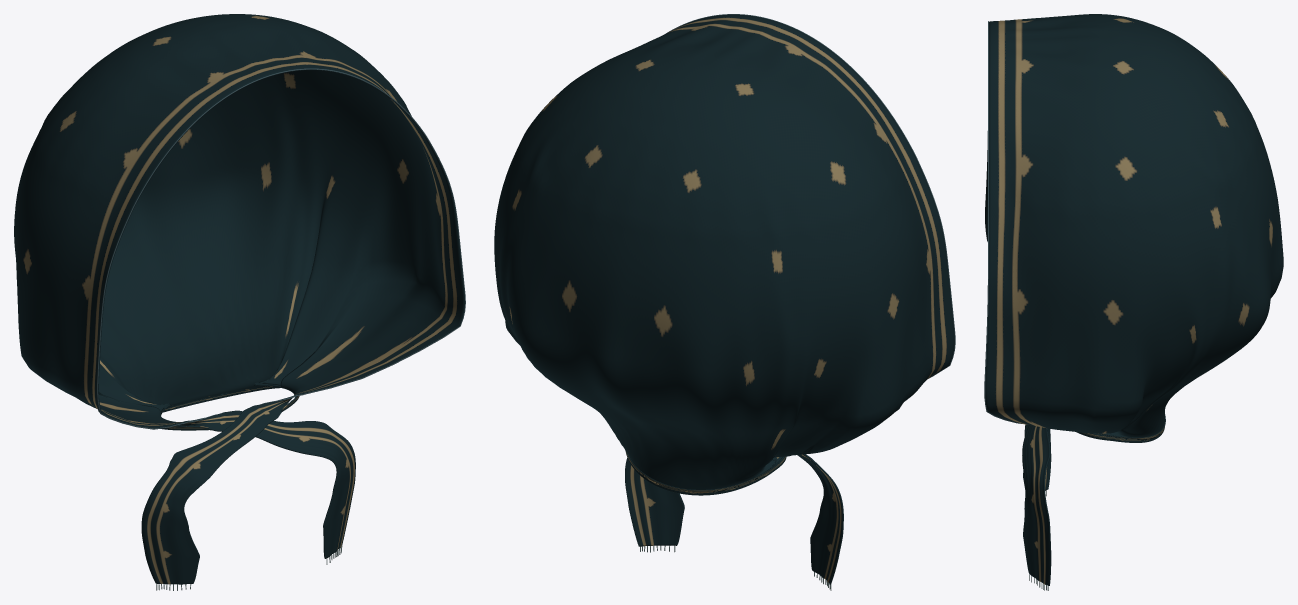
The model's file is Masculine-shirtless-compact-pashmina248-headgear.glb.
The picture shows the model from 3 angles, left to right: view 1: azimuth 30°, elevation 25°; view 2: azimuth 150°, elevation 25°; view 3: azimuth 270°, elevation 25°; orthographic projection. The views are drawn at different scales.
Visible parts, largest first — view 1: 226 headgear / Headwear / continuous woven pashmina239, 226 headgear / Headwear / face edge239; view 2: 226 headgear / Headwear / continuous woven pashmina239, 226 headgear / Headwear / face edge239; view 3: 226 headgear / Headwear / continuous woven pashmina239, 226 headgear / Headwear / face edge239.
Part boxes in pixels (x1,y1,x2,y2): 226 headgear / Headwear / continuous woven pashmina239: (14, 14, 464, 584); 226 headgear / Headwear / face edge239: (97, 68, 465, 429); 226 headgear / Headwear / continuous woven pashmina239: (494, 14, 954, 584); 226 headgear / Headwear / face edge239: (666, 14, 955, 378); 226 headgear / Headwear / continuous woven pashmina239: (985, 14, 1283, 585); 226 headgear / Headwear / face edge239: (984, 21, 1021, 423).
Size of the model in its own units: 1.03 by 1.35 by 0.7123.
Materials: 3 (1 with a texture image).
